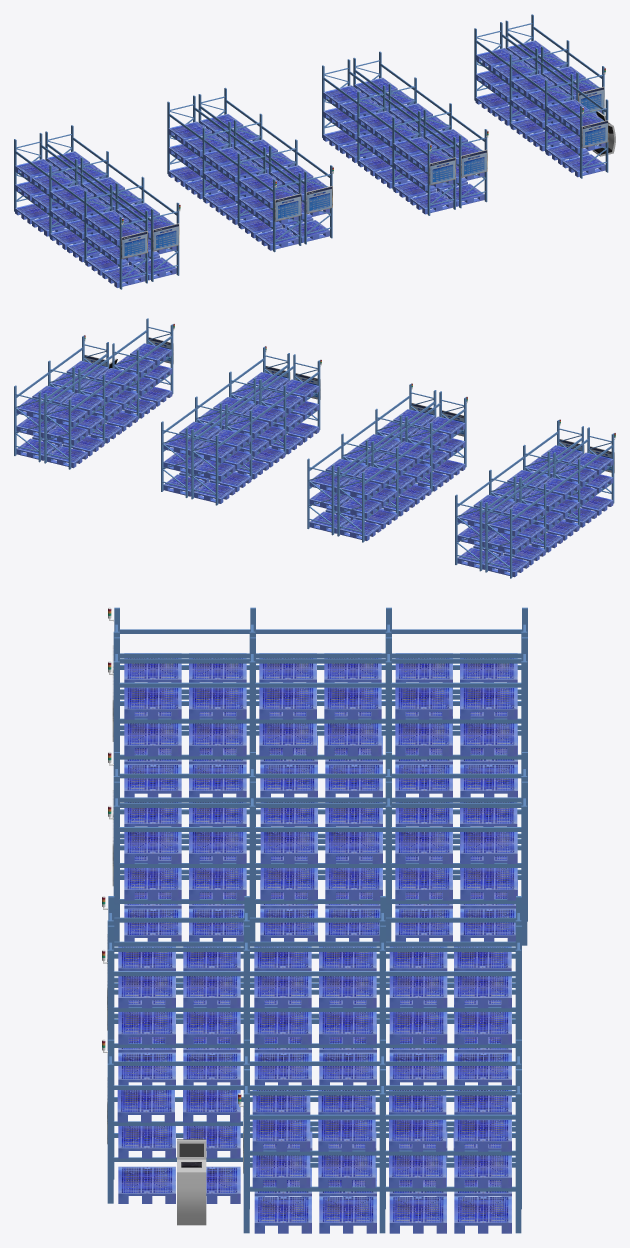
Rendered from CK-jingjuhuojia0001-CJBZ.FBX.
The picture shows the model from 3 angles, top to bottom: view 1: azimuth 30°, elevation 25°; view 2: azimuth 150°, elevation 25°; view 3: azimuth 270°, elevation 25°; orthographic projection. The views are drawn at different scales.
Visible parts, largest first — view 1: CK-jingjuhuojia0001-CJBZ; view 2: CK-jingjuhuojia0001-CJBZ; view 3: CK-jingjuhuojia0001-CJBZ.
Boxes of the visible parts, box(x1,y1,x2,y2) form: CK-jingjuhuojia0001-CJBZ: box(14, 14, 615, 289); CK-jingjuhuojia0001-CJBZ: box(14, 318, 615, 578); CK-jingjuhuojia0001-CJBZ: box(102, 607, 527, 1233).
Size of the model in its own units: 20.07 by 2.66 by 7.39.
2 materials, 2 textured.
